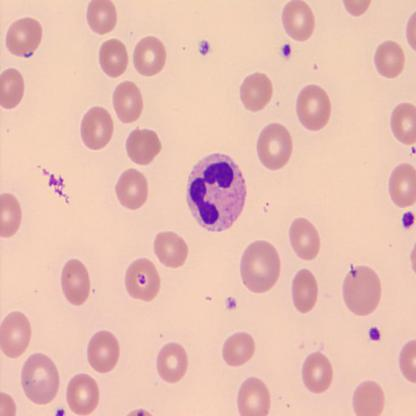Segmented neutrophil: (184, 151, 249, 233)
